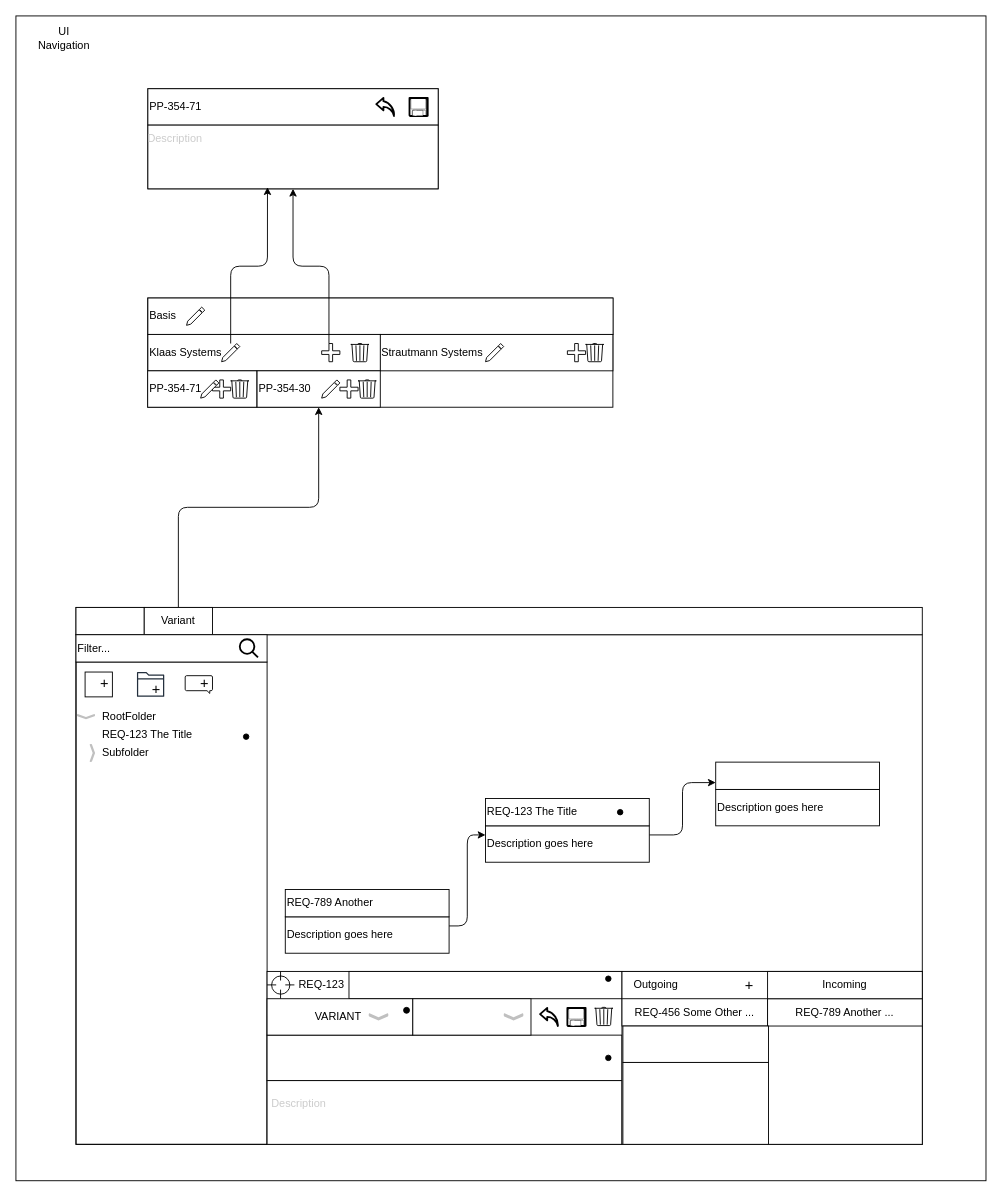
The diagram is 1002 pixels wide and 1197 high, and some of its shapes have lost their labels. Each missing label, with the centre of its shape:
Draft: the point at 471,1016
EDITABLE TITLE: the point at 485,985
File: the point at 109,621
Rationale: the point at 444,1057
REQ-456The Title: the point at 797,775
Sources: the point at 695,1103
